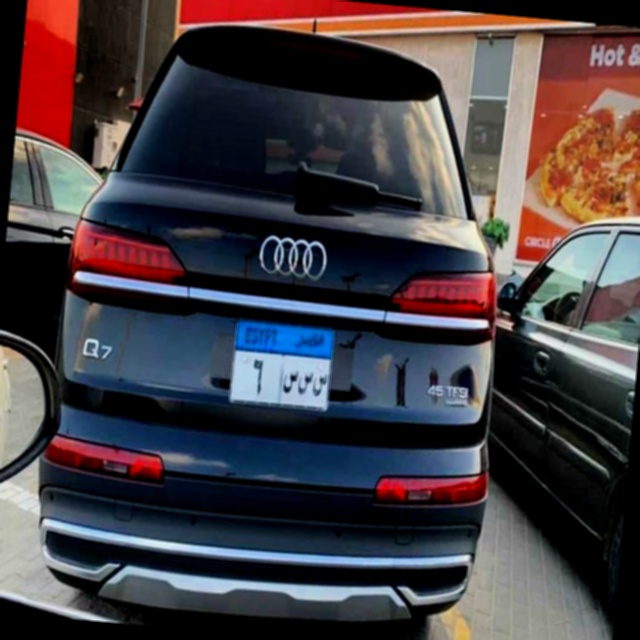License Plate: (227, 316, 339, 416)
